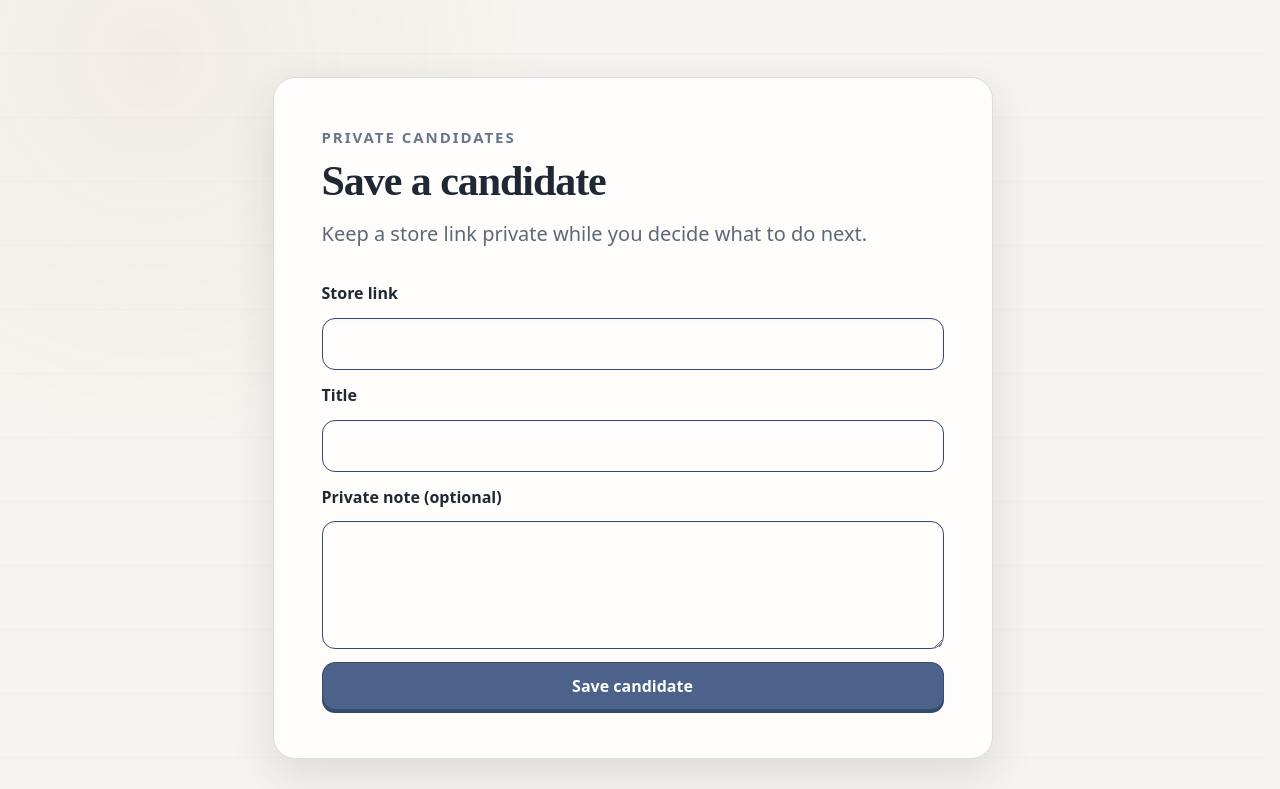
Test: candidate private routes › sends a private share only after the candidate is saved
Type "https://example.com/oak" into the field labelled "Store link". click: (632, 344)
box: x1=322 y1=318 x2=944 y2=370
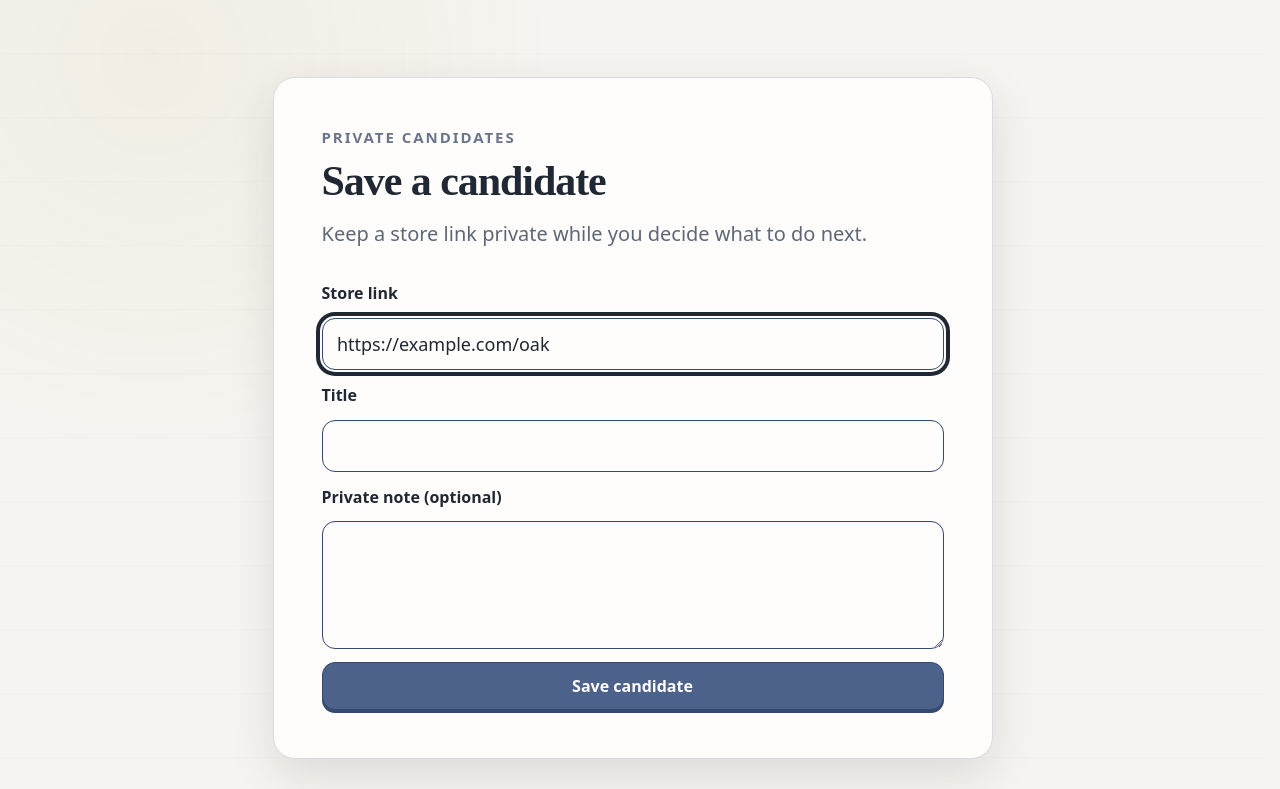
Type "Oak Antiques" into the field labelled "Title". click: (632, 446)
box: x1=322 y1=420 x2=944 y2=472
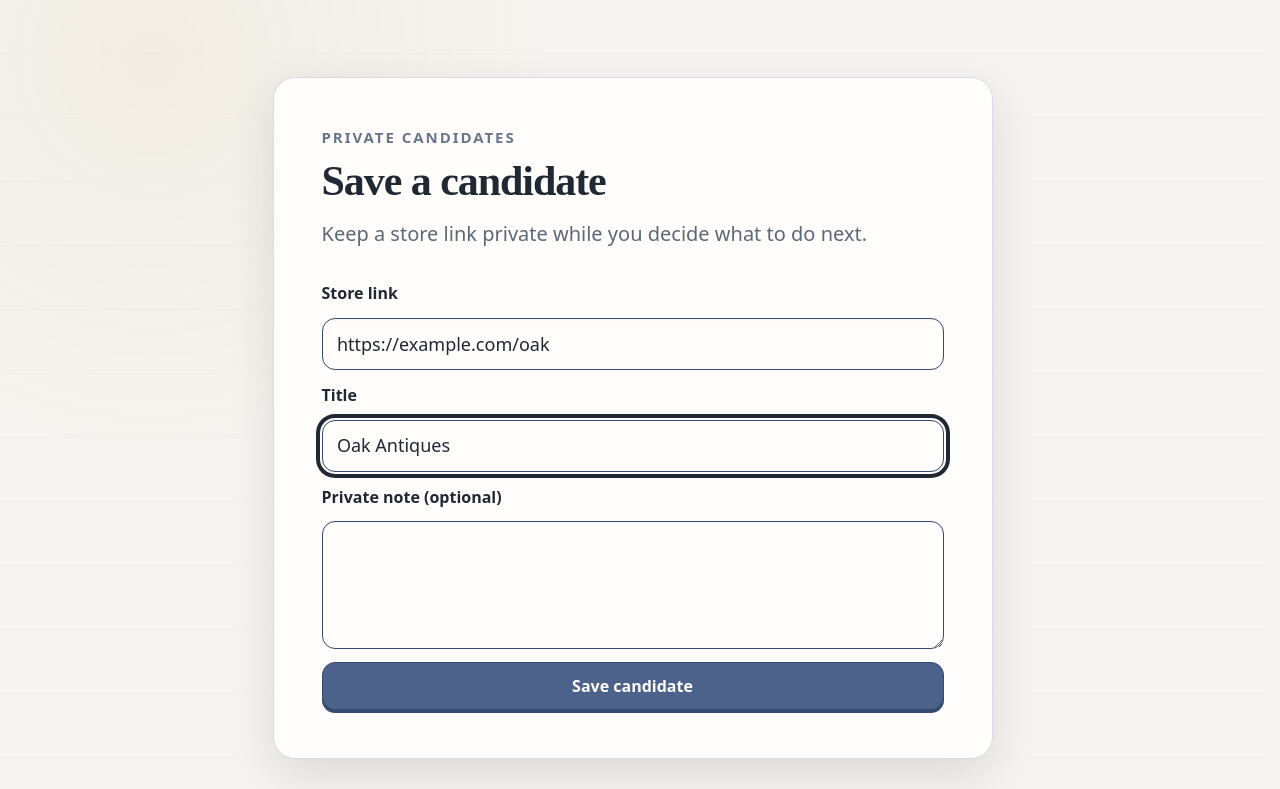
Click the button "Save candidate". click: (632, 686)
box: x1=322 y1=662 x2=944 y2=710
(page scrolled)
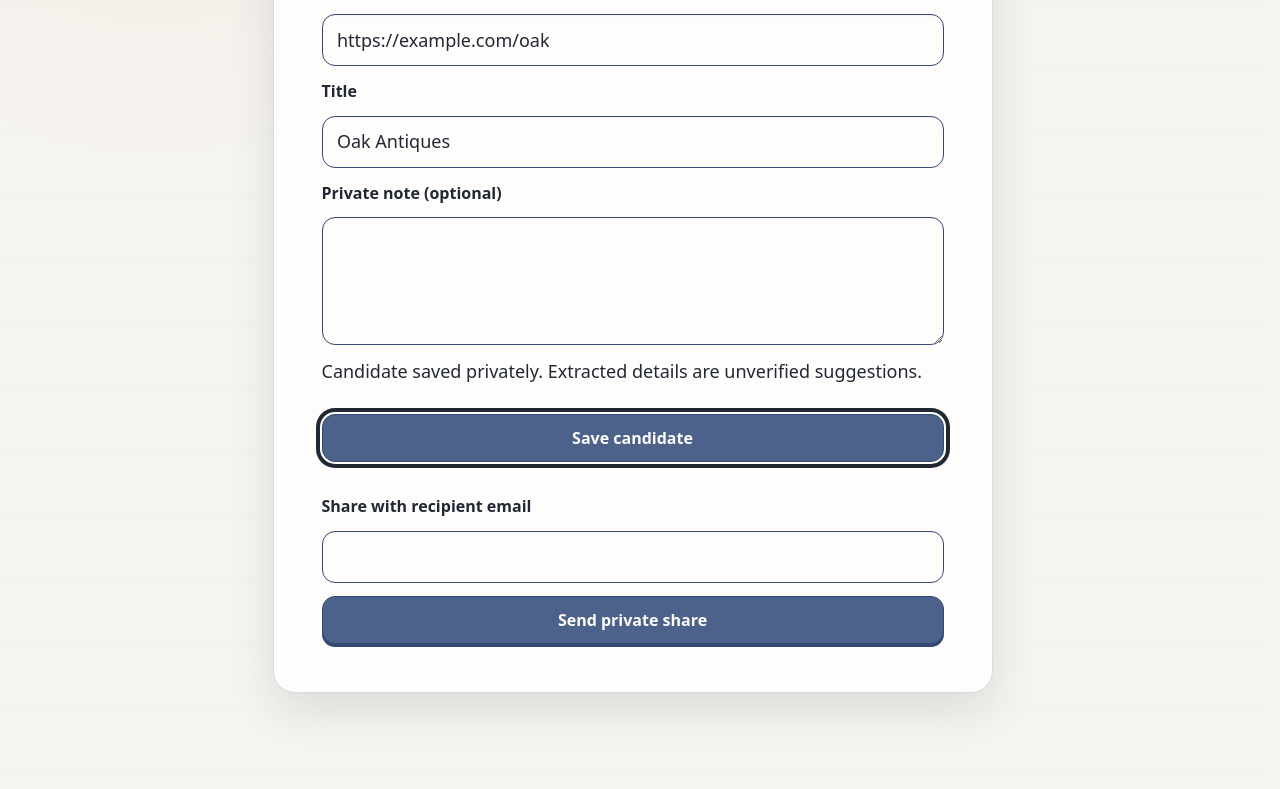
Type " RECIPIENT@Example.COM " into the field labelled "Share with recipient email". click: (632, 557)
box: x1=322 y1=531 x2=944 y2=583
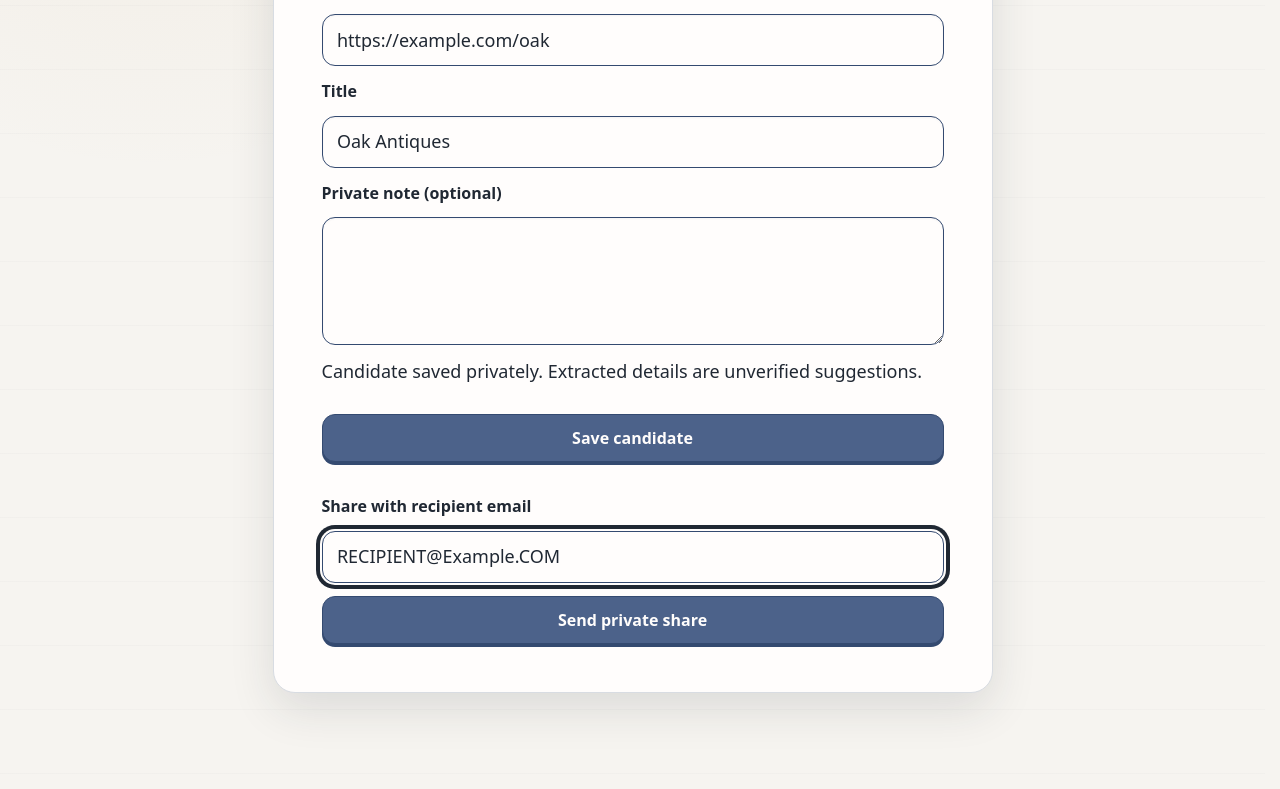
Click the button "Send private share". click: (632, 620)
box: x1=322 y1=596 x2=944 y2=644
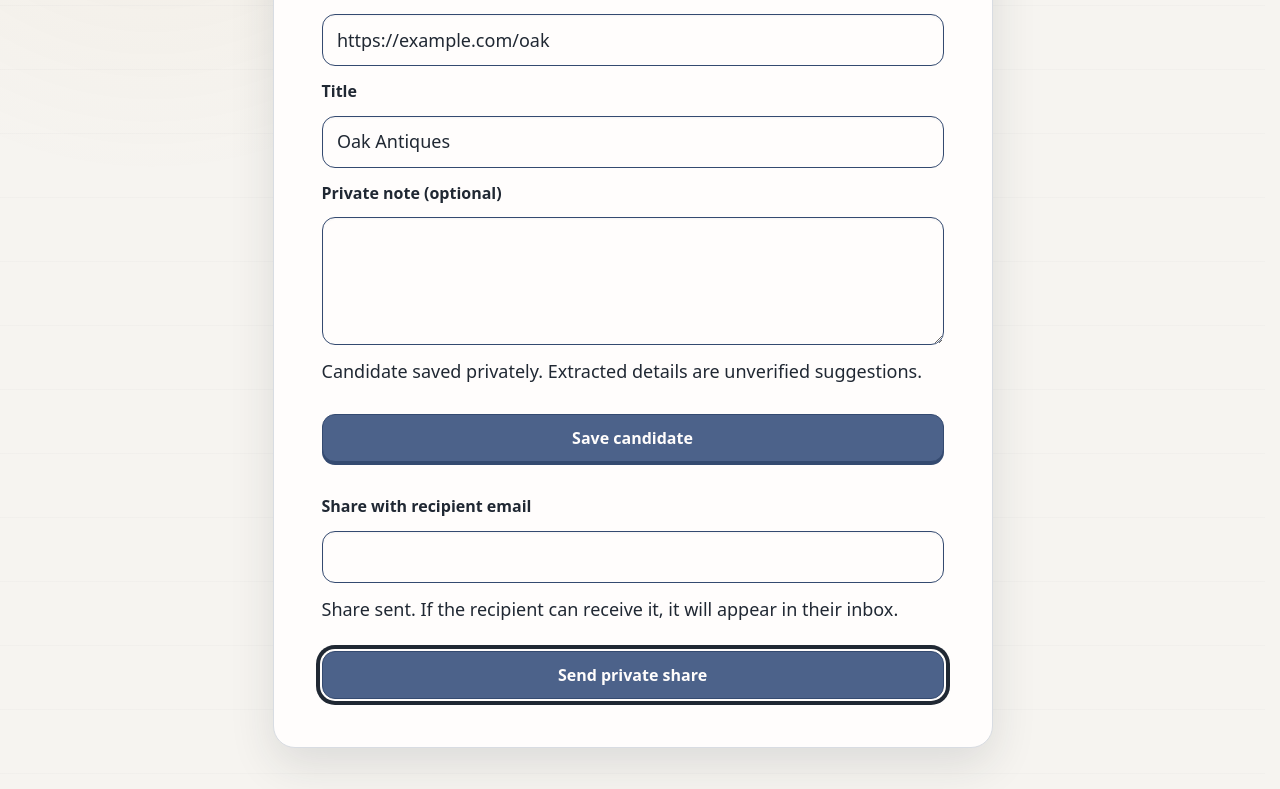
Now the text "Share sent. If the recipient can receive it, it will appear in their inbox." is shown, box x1=322 y1=596 x2=944 y2=623
